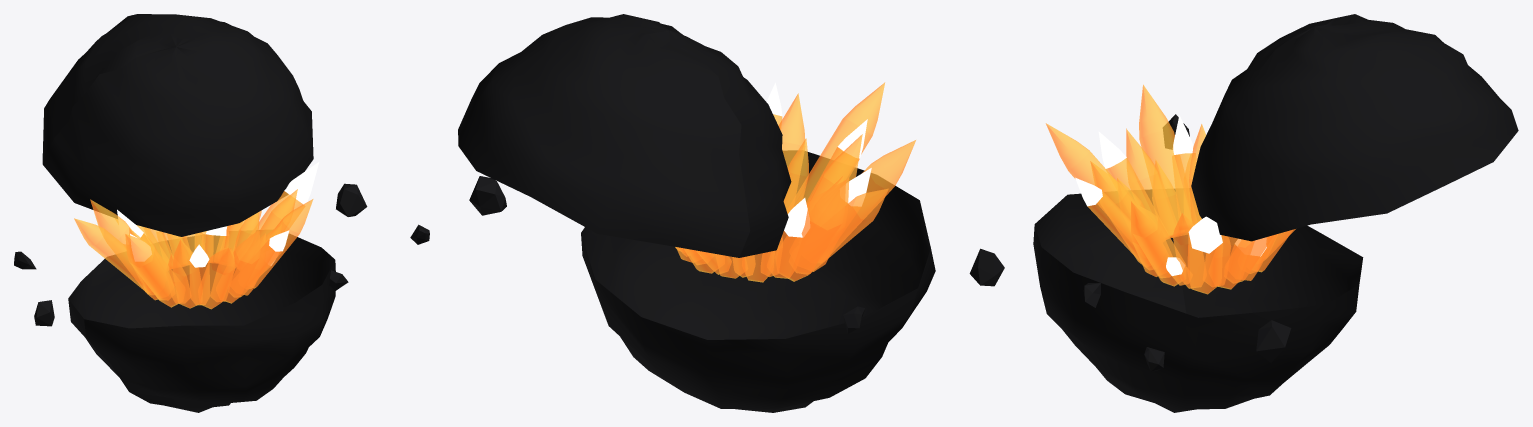
Rendered from 06-geode.glb.
The picture shows the model from 3 angles, left to right: view 1: azimuth 30°, elevation 25°; view 2: azimuth 150°, elevation 25°; view 3: azimuth 270°, elevation 25°; orthographic projection. The views are drawn at different scales.
Visible parts, largest first — view 1: shell2, shell1, spike12_shaft, spike15_shaft, spike29_shaft, spike5_shaft, spike8_shaft, spike13_shaft, spike10_shaft, spike16_tip, spike6_shaft, chip2 (+22 smaller); view 2: shell2, shell1, spike15_shaft, spike16_shaft, spike8_shaft, spike16_tip, spike12_tip, chip2, spike9_shaft, spike17_shaft, spike10_tip, spike14_tip (+14 smaller); view 3: shell2, shell1, spike12_shaft, spike10_shaft, spike29_shaft, spike5_shaft, spike2_shaft, spike13_shaft, spike8_shaft, spike27_shaft, spike26_shaft, spike9_shaft (+18 smaller).
Part boxes in pixels (<box>): shell2: <box>42,14,313,236</box>; shell1: <box>68,234,335,412</box>; spike12_shaft: <box>129,248,178,307</box>; spike15_shaft: <box>89,228,153,294</box>; spike29_shaft: <box>235,191,304,265</box>; spike5_shaft: <box>229,239,282,297</box>; spike8_shaft: <box>200,257,235,309</box>; spike13_shaft: <box>136,249,170,299</box>; spike10_shaft: <box>172,268,200,308</box>; spike16_tip: <box>90,199,128,242</box>; spike6_shaft: <box>224,250,259,303</box>; chip2: <box>336,183,367,216</box>; shell2: <box>458,14,791,257</box>; shell1: <box>581,150,935,412</box>; spike15_shaft: <box>795,197,872,273</box>; spike16_shaft: <box>779,204,841,281</box>; spike8_shaft: <box>787,119,872,212</box>; spike16_tip: <box>807,180,845,230</box>; spike12_tip: <box>866,140,915,191</box>; chip2: <box>469,176,506,215</box>; spike9_shaft: <box>806,147,859,203</box>; spike17_shaft: <box>772,231,808,278</box>; spike10_tip: <box>823,134,862,184</box>; spike14_tip: <box>809,177,849,230</box>; shell2: <box>1191,14,1518,241</box>; shell1: <box>1033,189,1363,412</box>; spike12_shaft: <box>1139,130,1192,237</box>; spike10_shaft: <box>1129,172,1177,238</box>; spike29_shaft: <box>1188,233,1222,294</box>; spike5_shaft: <box>1087,190,1152,269</box>; spike2_shaft: <box>1133,217,1185,286</box>; spike13_shaft: <box>1172,153,1201,230</box>; spike8_shaft: <box>1068,150,1119,212</box>; spike27_shaft: <box>1217,235,1254,289</box>; spike26_shaft: <box>1227,235,1274,283</box>; spike9_shaft: <box>1106,158,1167,235</box>.
Bounding box in the file's own units: 3.09 × 2.41 × 2.72.
